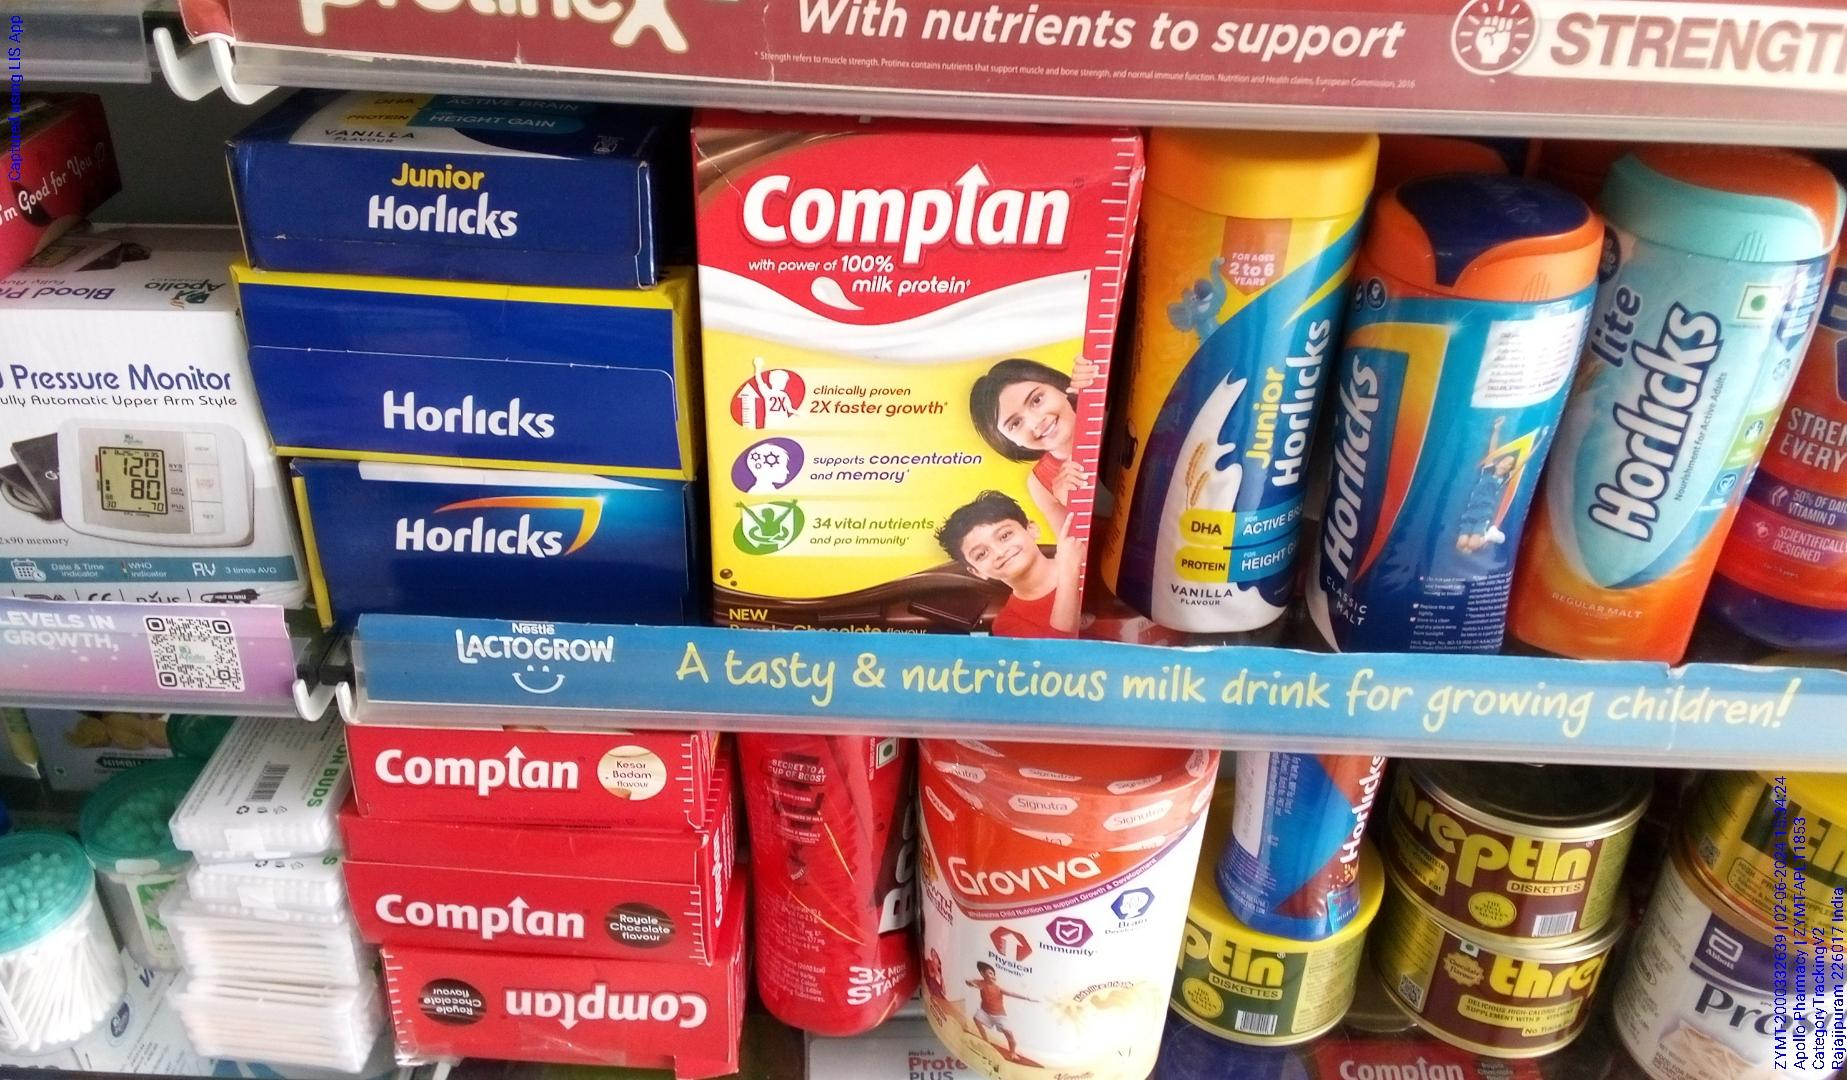HORLICKS_JUNIOR_VANILLA_500_GM_JAR: (1122, 143, 1312, 644)
HORLICKS_LITE_REGULAR_MALT_500_GM_JAR: (1568, 152, 1778, 670)
